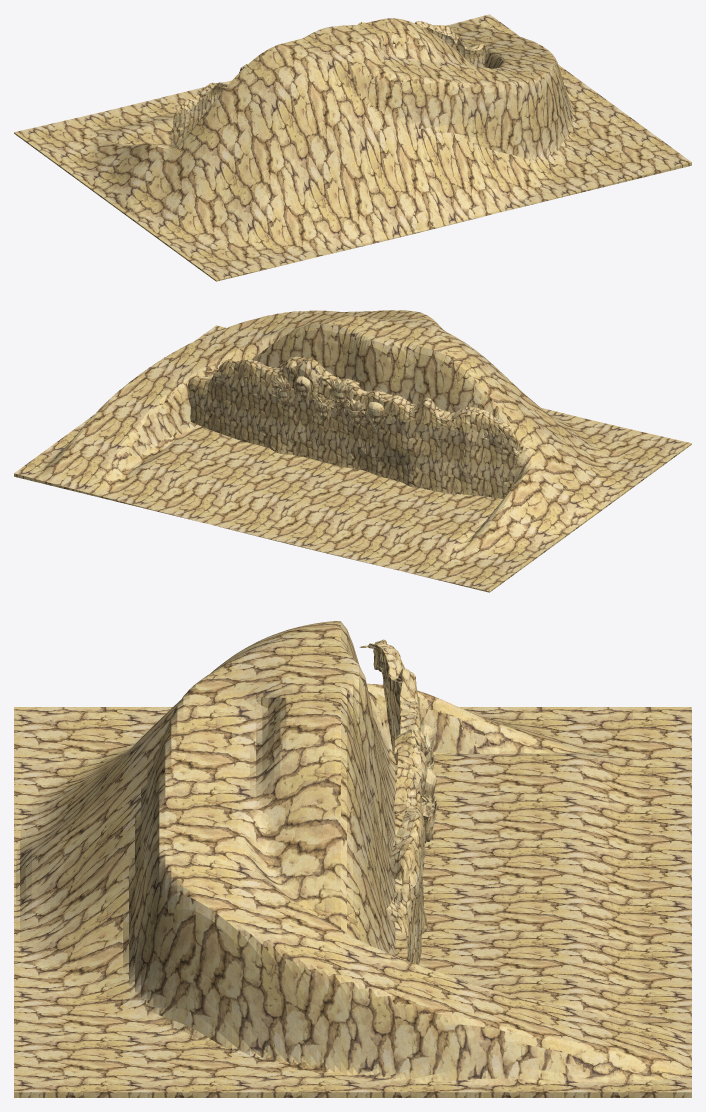
Rendered from hokage-mountain.glb.
The picture shows the model from 3 angles, top to bottom: view 1: azimuth 30°, elevation 25°; view 2: azimuth 150°, elevation 25°; view 3: azimuth 270°, elevation 25°; orthographic projection. The views are drawn at different scales.
Visible parts, largest first — view 1: Completed sides back summit and trail, Hokage cliff mat_122; view 2: Completed sides back summit and trail, Hokage cliff mat_122, Hokage cliff mat_200; view 3: Completed sides back summit and trail, Hokage cliff mat_122, Hokage cliff mat_200.
Part boxes in pixels (bbox=[...]): Completed sides back summit and trail: bbox=[14, 14, 691, 281]; Hokage cliff mat_122: bbox=[170, 21, 487, 147]; Completed sides back summit and trail: bbox=[14, 310, 691, 592]; Hokage cliff mat_122: bbox=[187, 356, 520, 498]; Hokage cliff mat_200: bbox=[273, 376, 384, 426]; Completed sides back summit and trail: bbox=[14, 621, 691, 1097]; Hokage cliff mat_122: bbox=[359, 639, 427, 964]; Hokage cliff mat_200: bbox=[411, 723, 438, 843].
Size of the model in its own units: 38 by 9.78 by 28.
3 materials, 3 textured.
